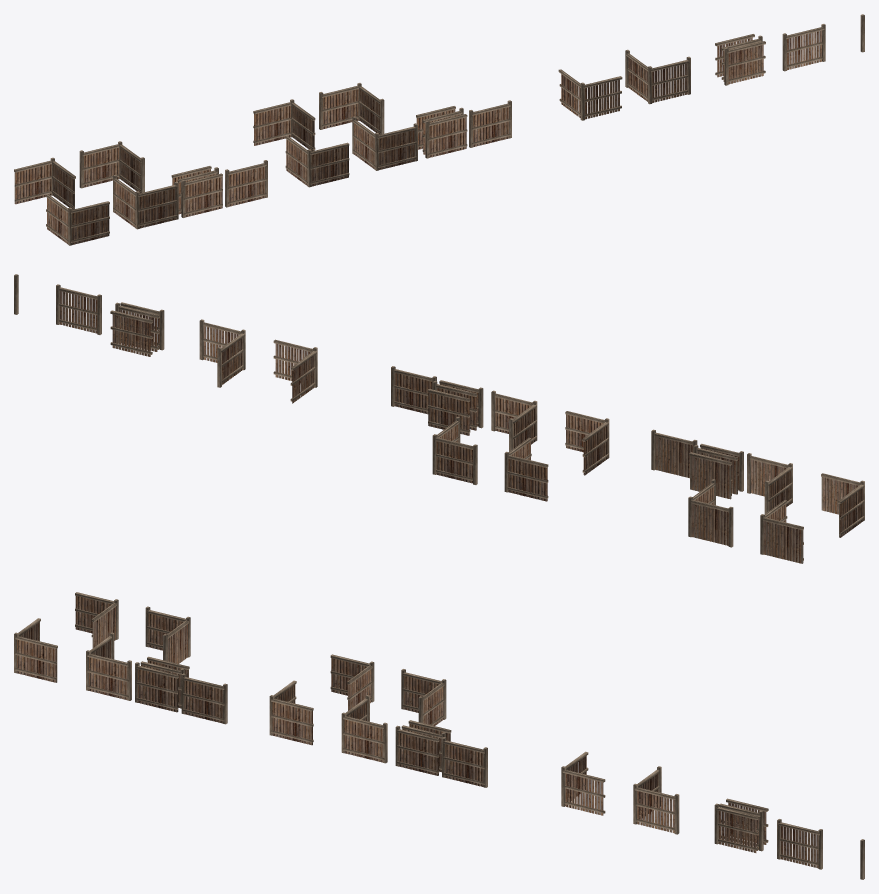
Rendered from plank_fence_without_proxy.obj.
3 views of the same model, one above another, from view 1: azimuth 30°, elevation 25°; view 2: azimuth 150°, elevation 25°; view 3: azimuth 330°, elevation 25° (orthographic). The views are drawn at different scales.
Visible parts, largest first — view 1: plank_fence_b_corner_in, plank_fence_a_corner_in, plank_fence_a_corner_out, plank_fence_c_corner, plank_fence_b_corner_out, plank_fence_a_corner_in_nocol, plank_fence_b_corner_in_nocol, plank_fence_b_corner_out_nocol, plank_fence_a_corner_out_nocol, plank_fence_c_corner_nocol, plank_fence_c, plank_fence_a (+6 smaller); view 2: plank_fence_c_corner, plank_fence_b_corner_out, plank_fence_a_corner_out, plank_fence_b_corner_in_nocol, plank_fence_b_corner_out_nocol, plank_fence_b_corner_in, plank_fence_a_corner_out_nocol, plank_fence_a_corner_in_nocol, plank_fence_a_corner_in, plank_fence_c_corner_nocol, plank_fence_c, plank_fence_a (+6 smaller); view 3: plank_fence_b_corner_in, plank_fence_c_corner, plank_fence_a_corner_in, plank_fence_b_corner_in_nocol, plank_fence_a_corner_in_nocol, plank_fence_a_corner_out, plank_fence_b_corner_out, plank_fence_c_corner_nocol, plank_fence_a, plank_fence_b_corner_out_nocol, plank_fence_a_corner_out_nocol, plank_fence_b (+6 smaller).
Part boxes in pixels (x1,y1,x2,y2): plank_fence_b_corner_in: [352, 116, 417, 170]; plank_fence_a_corner_in: [113, 174, 178, 229]; plank_fence_a_corner_out: [79, 141, 144, 193]; plank_fence_c_corner: [625, 49, 690, 104]; plank_fence_b_corner_out: [319, 83, 384, 134]; plank_fence_a_corner_in_nocol: [46, 194, 109, 245]; plank_fence_b_corner_in_nocol: [285, 136, 349, 187]; plank_fence_b_corner_out_nocol: [253, 99, 315, 151]; plank_fence_a_corner_out_nocol: [14, 157, 75, 209]; plank_fence_c_corner_nocol: [558, 69, 622, 120]; plank_fence_c: [782, 24, 825, 71]; plank_fence_a: [225, 160, 267, 207]; plank_fence_c_corner: [199, 319, 245, 387]; plank_fence_b_corner_out: [432, 416, 477, 484]; plank_fence_a_corner_out: [688, 479, 733, 547]; plank_fence_b_corner_in_nocol: [565, 411, 609, 475]; plank_fence_b_corner_out_nocol: [504, 437, 548, 501]; plank_fence_b_corner_in: [491, 390, 537, 451]; plank_fence_a_corner_out_nocol: [760, 500, 803, 563]; plank_fence_a_corner_in_nocol: [821, 473, 864, 537]; plank_fence_a_corner_in: [747, 453, 792, 514]; plank_fence_c_corner_nocol: [273, 339, 317, 403]; plank_fence_c: [56, 284, 101, 334]; plank_fence_a: [651, 429, 697, 478]; plank_fence_b_corner_in: [341, 695, 387, 763]; plank_fence_c_corner: [633, 766, 679, 834]; plank_fence_a_corner_in: [86, 632, 131, 700]; plank_fence_b_corner_in_nocol: [269, 680, 313, 745]; plank_fence_a_corner_in_nocol: [14, 618, 57, 682]; plank_fence_a_corner_out: [145, 606, 190, 663]; plank_fence_b_corner_out: [401, 669, 446, 725]; plank_fence_c_corner_nocol: [561, 751, 605, 815]; plank_fence_a: [181, 673, 227, 724]; plank_fence_b_corner_out_nocol: [330, 654, 374, 710]; plank_fence_a_corner_out_nocol: [75, 592, 118, 647]; plank_fence_b: [442, 737, 487, 787].
Size of the model in its own units: 5496 by 243 by 691.
